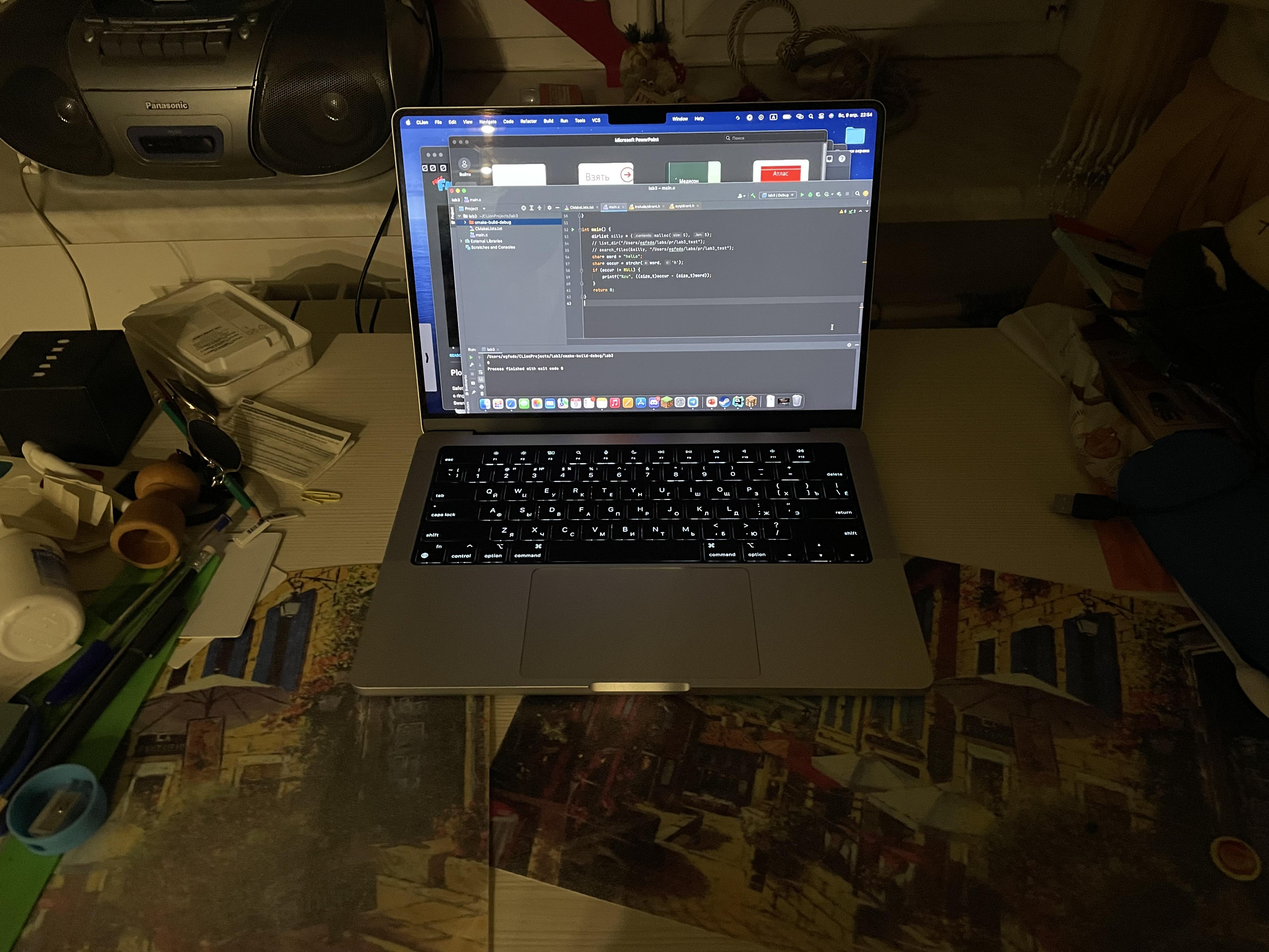monitor: (389, 99, 885, 436)
